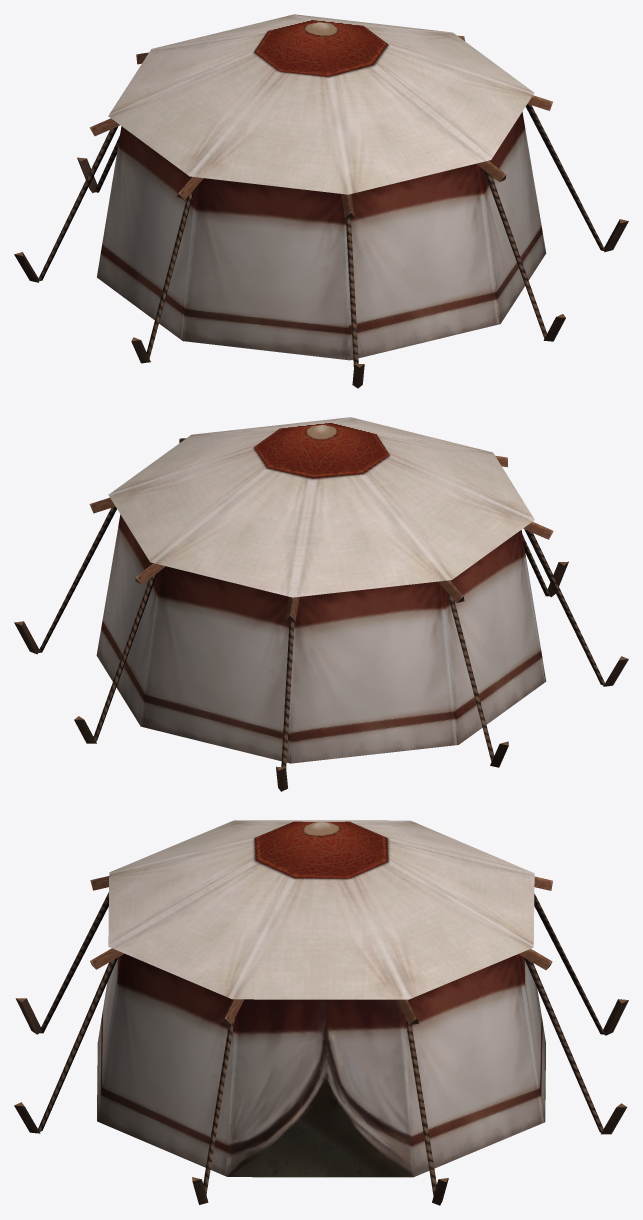
The model's file is SV_AFT_forest_zhangpeng_0.FBX.
3 renders of one model, top to bottom at view 1: azimuth 30°, elevation 25°; view 2: azimuth 150°, elevation 25°; view 3: azimuth 270°, elevation 25°, orthographic. The views are drawn at different scales.
Parts seen in each view (by area): view 1: SV_AFT_forest_zhangpeng_0; view 2: SV_AFT_forest_zhangpeng_0; view 3: SV_AFT_forest_zhangpeng_0.
Boxes of the visible parts, x1=… form: SV_AFT_forest_zhangpeng_0: x1=14, y1=14, x2=628, y2=388; SV_AFT_forest_zhangpeng_0: x1=14, y1=417, x2=628, y2=791; SV_AFT_forest_zhangpeng_0: x1=14, y1=820, x2=628, y2=1205.
Size of the model in its own units: 8.96 by 4.18 by 8.96.
